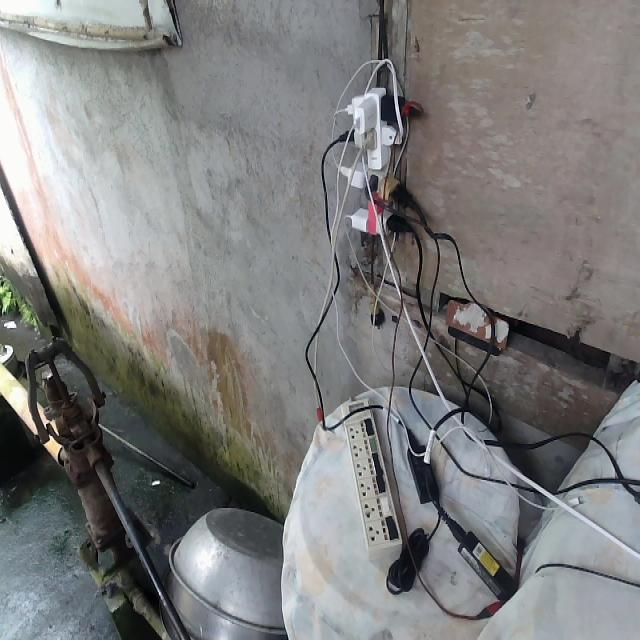-: (333, 81, 410, 236)
